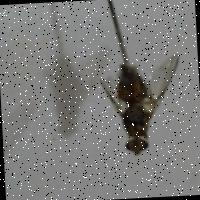Oriental-fruit-fly: (88, 44, 195, 177)
